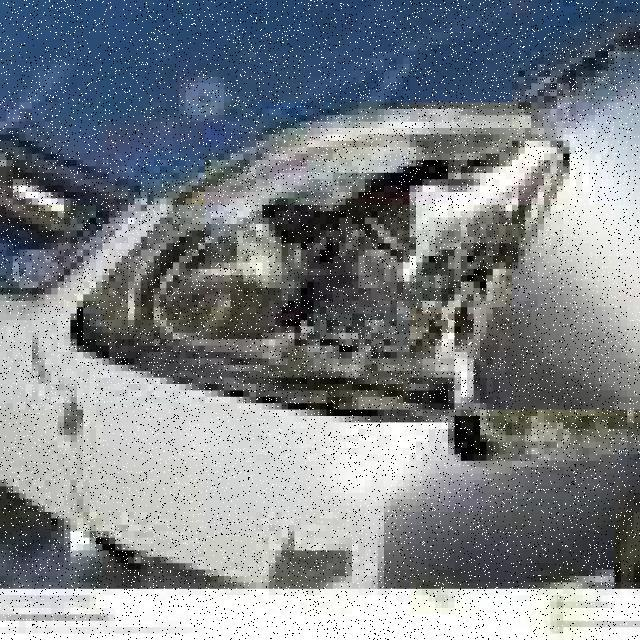Headlight-Damage: (64, 71, 582, 442)
